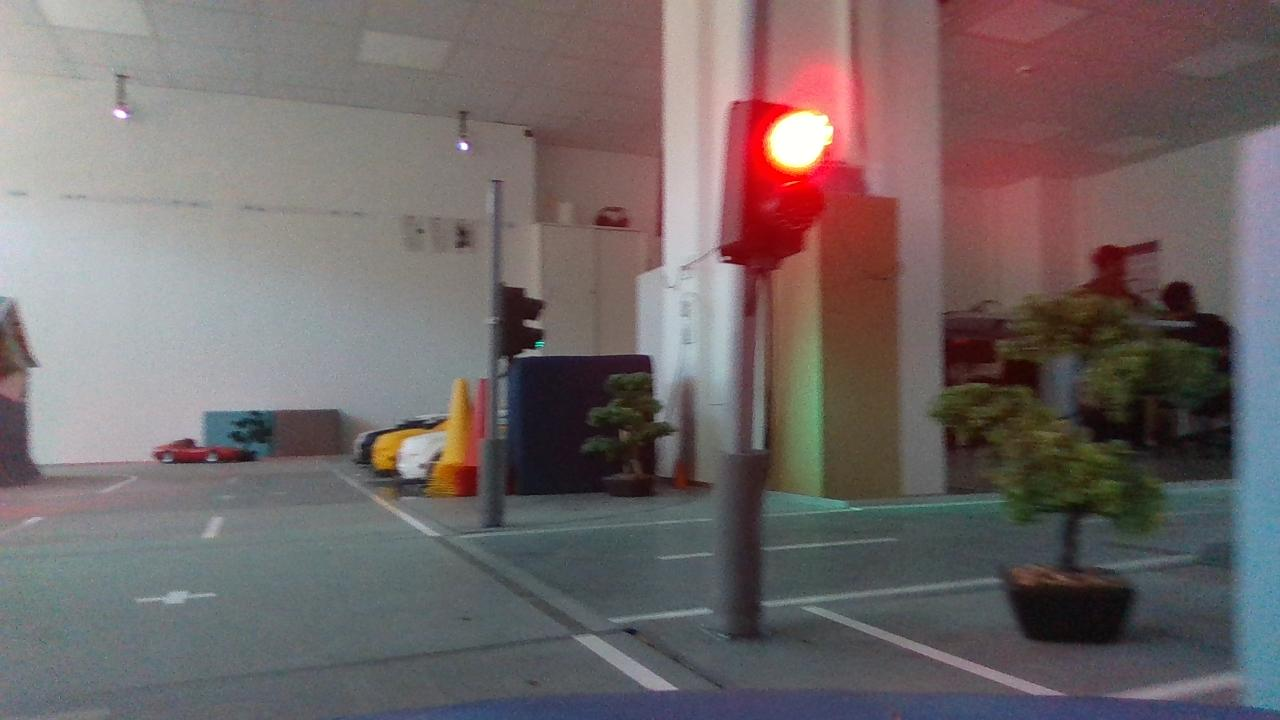traffic_light_red: (699, 82, 846, 288)
